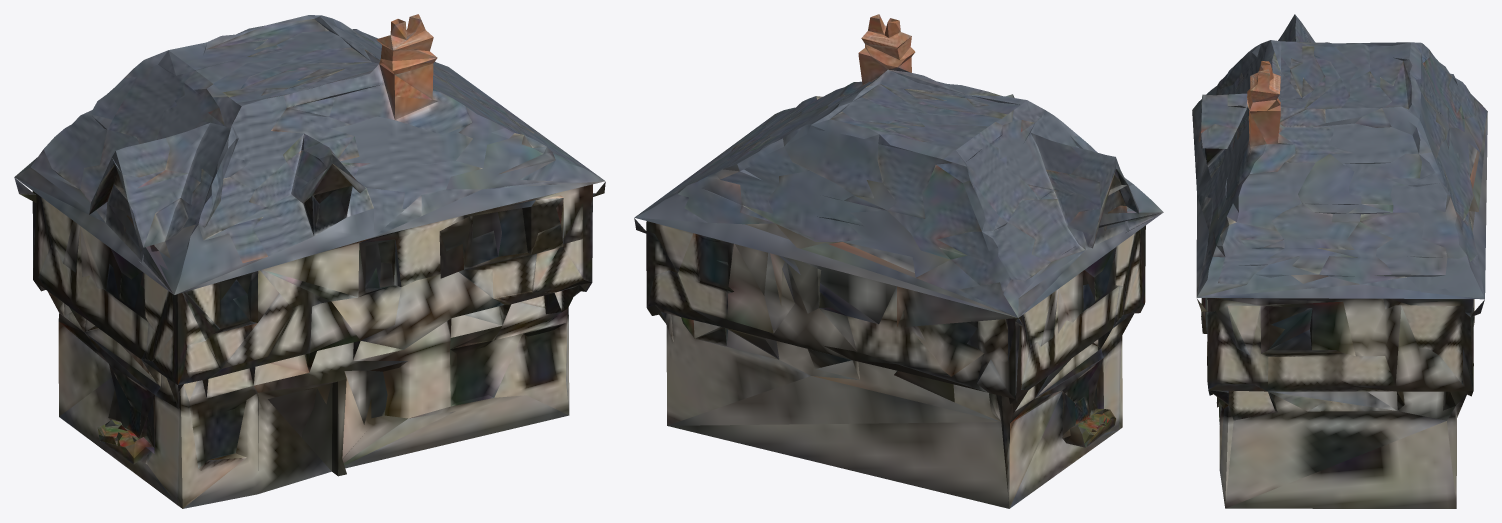
The model's file is halftimber.glb.
3 renders of one model, left to right at view 1: azimuth 30°, elevation 25°; view 2: azimuth 150°, elevation 25°; view 3: azimuth 270°, elevation 25°, orthographic. The views are drawn at different scales.
Bounding box in the file's own units: 1.9 × 1.72 × 1.21.
1 material, 1 textured.
